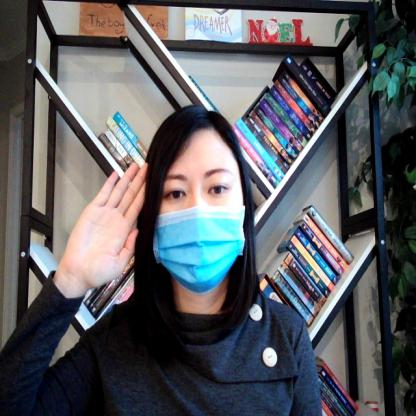hello: (64, 152, 155, 294)
